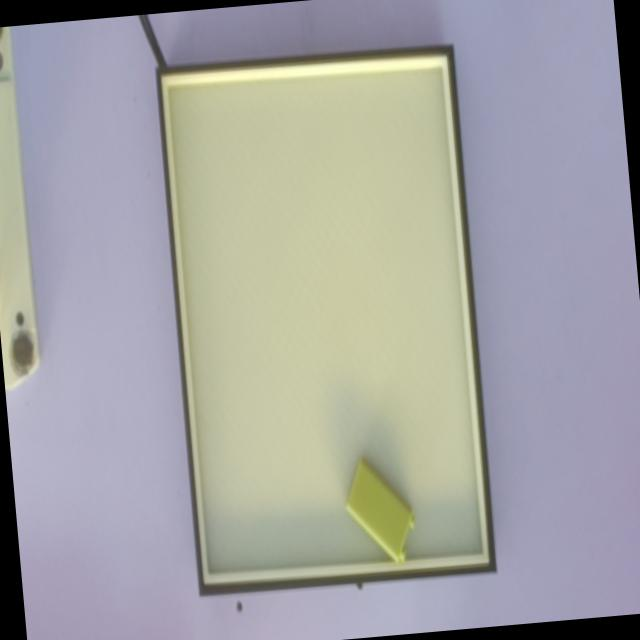bateria: (344, 453, 416, 564)
mesa: (155, 44, 497, 596)
